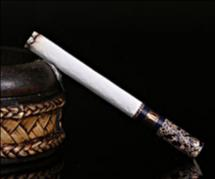Cigarette: (25, 32, 203, 157)
